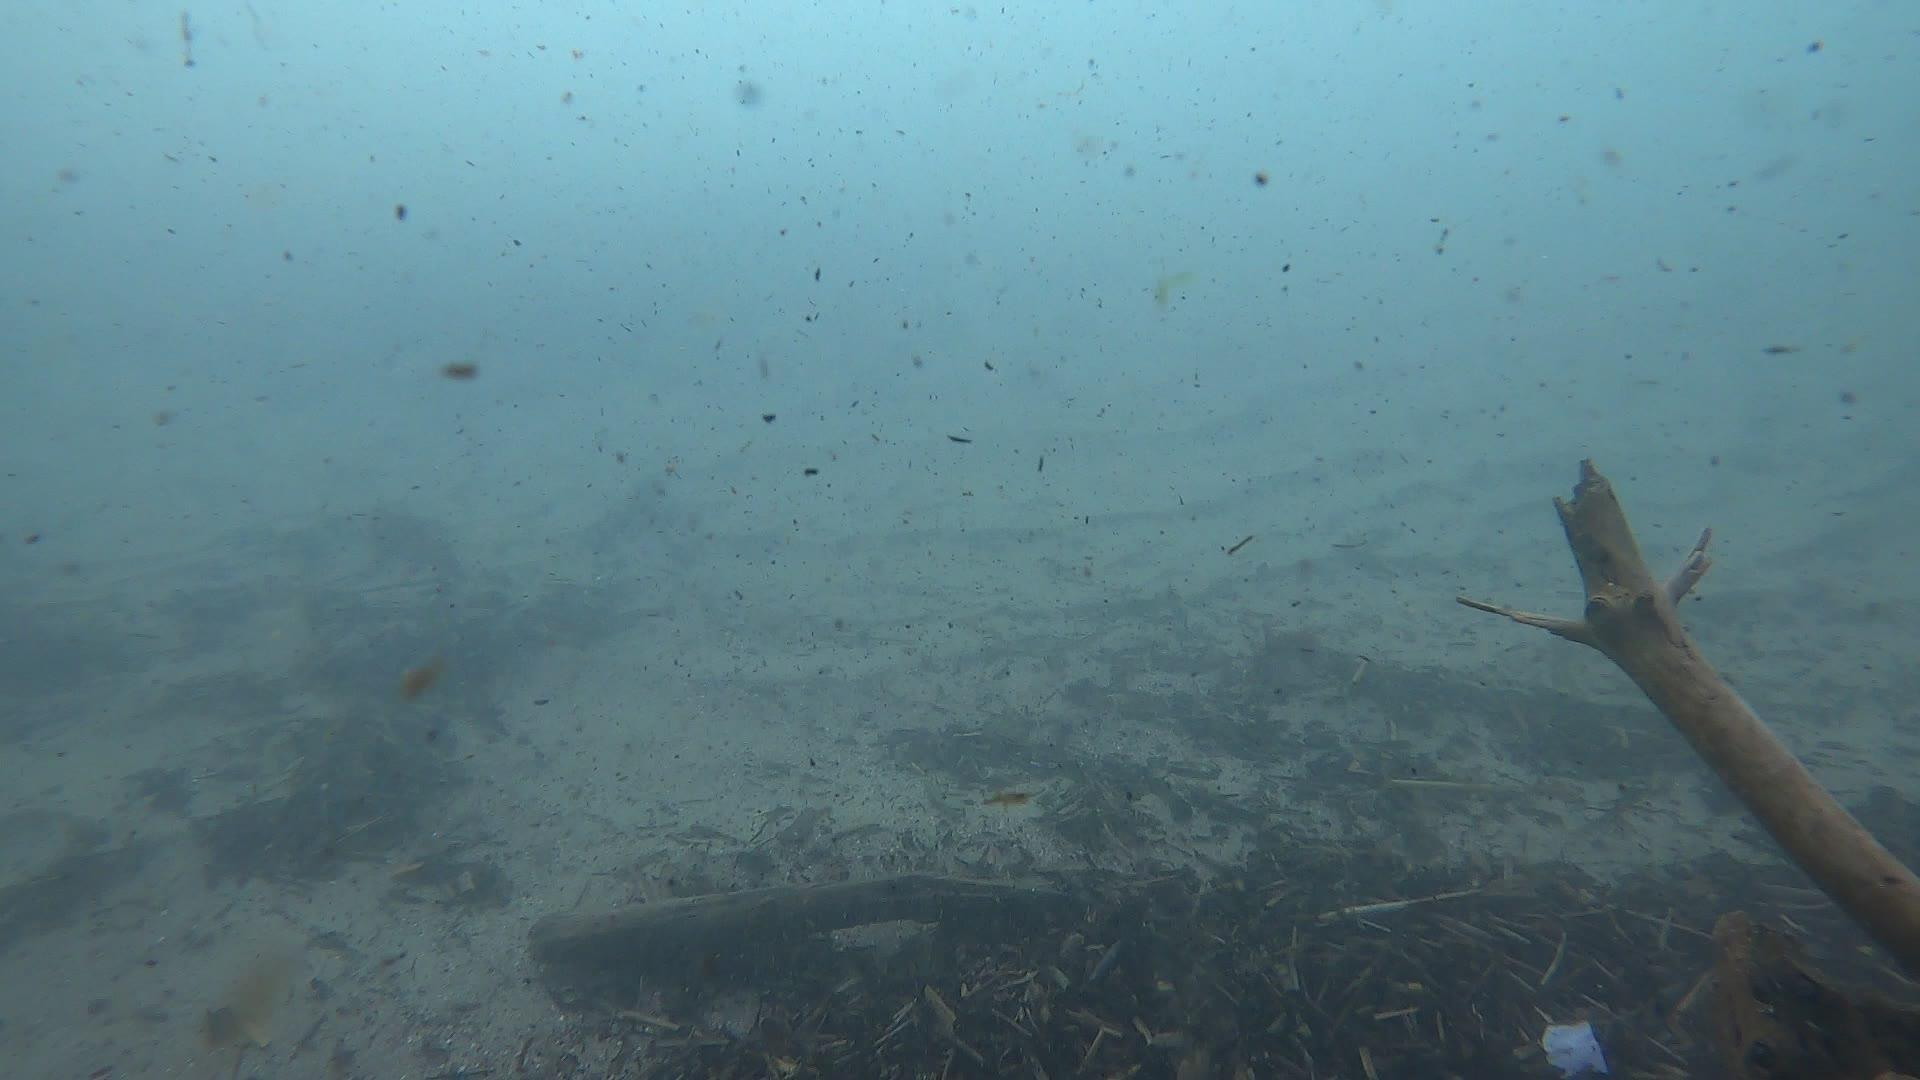wood: (1455, 454, 1920, 981)
